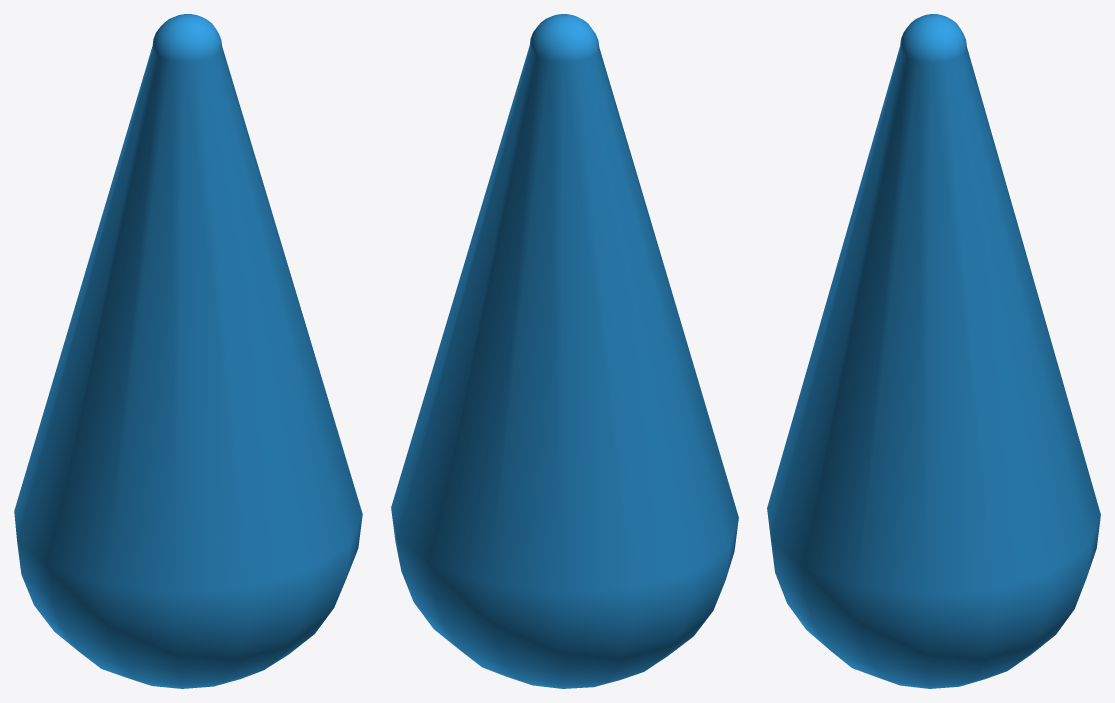
Rendered from LowHumid.glb.
3 renders of one model, left to right at view 1: azimuth 30°, elevation 25°; view 2: azimuth 150°, elevation 25°; view 3: azimuth 270°, elevation 25°, orthographic.
Parts seen in each view (by area): view 1: mesh_id117; view 2: mesh_id117; view 3: mesh_id117.
Boxes of the visible parts, bbox=[...] form: mesh_id117: bbox=[14, 14, 362, 688]; mesh_id117: bbox=[391, 14, 738, 688]; mesh_id117: bbox=[767, 14, 1100, 688].
Bounding box in the file's own units: 0.1255 × 0.2577 × 0.1192.
1 material, 1 textured.
